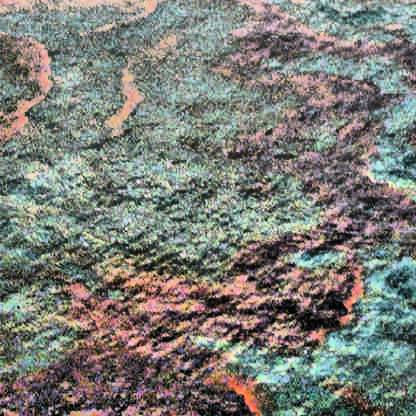truecolor: (0, 231, 364, 416), (210, 0, 406, 224)
